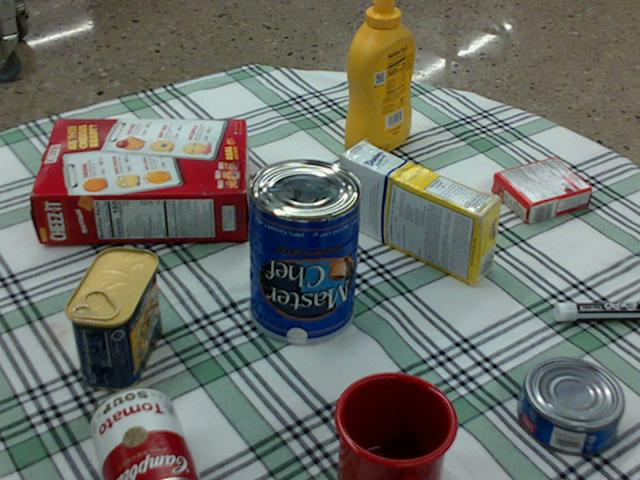cracker_box: (31, 119, 245, 243)
gelatin_box: (490, 157, 590, 223)
large_marker: (554, 301, 639, 320)
master_chef_can: (247, 158, 362, 343)
mug: (330, 372, 455, 479)
mustard_bottle: (343, 0, 413, 155)
potted_meat_can: (65, 247, 160, 391)
sugar_box: (337, 142, 501, 285)
tomato_soup_can: (90, 387, 197, 479)
tuna_fish_can: (518, 358, 624, 455)
